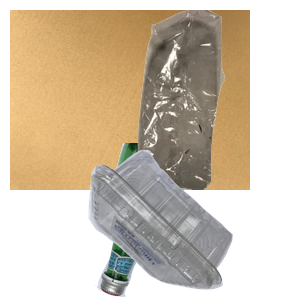cardboard: (10, 10, 250, 190)
glass: (93, 143, 284, 300)
plastic: (86, 147, 300, 300)
trash: (114, 10, 300, 190)
